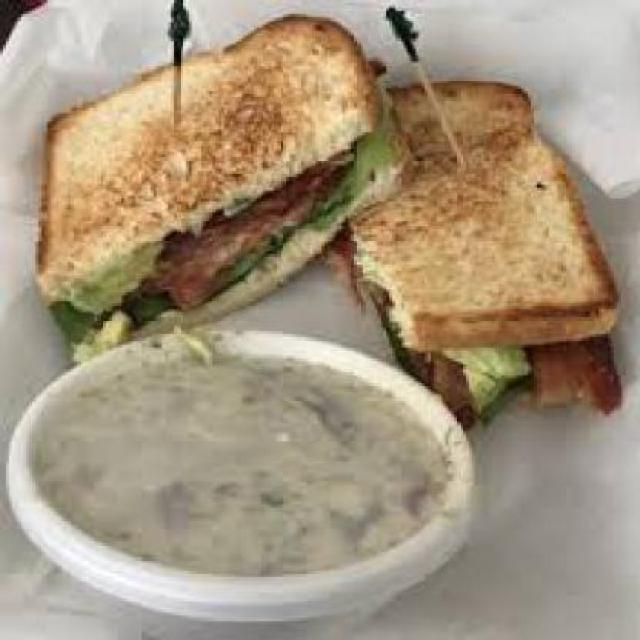clam chowder: (9, 306, 493, 616)
club sandwich: (18, 14, 638, 428)
